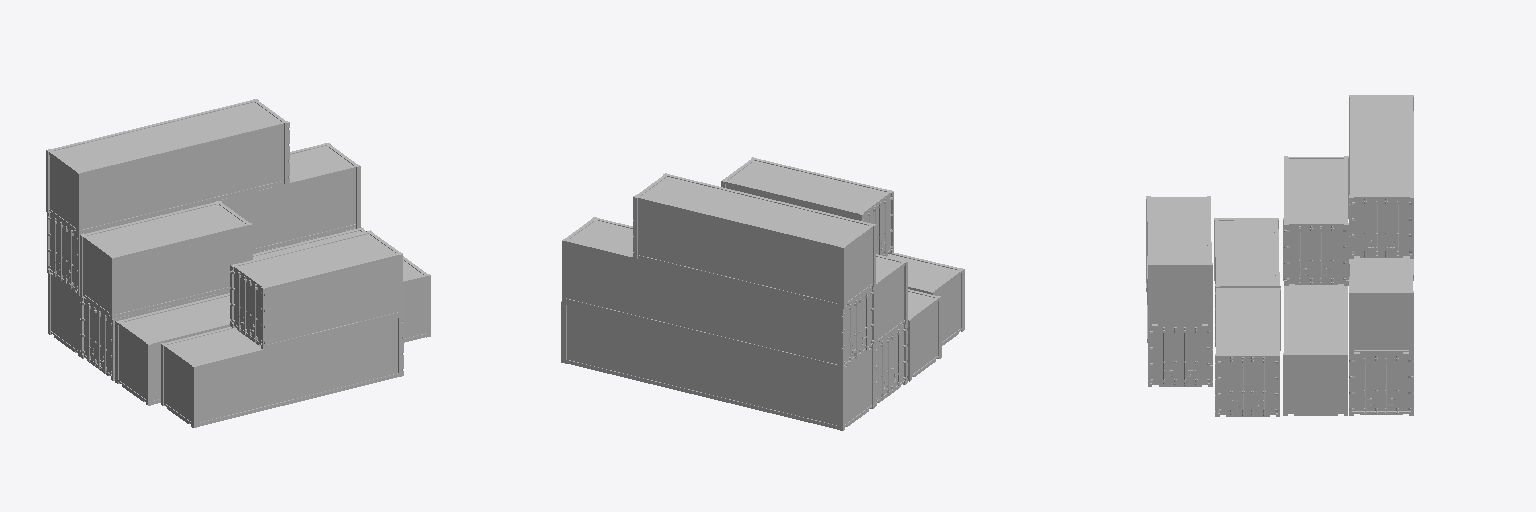
The model's file is Shipping Containers.obj.
3 views of the same model, side by side, from view 1: azimuth 30°, elevation 25°; view 2: azimuth 150°, elevation 25°; view 3: azimuth 270°, elevation 25° (orthographic).
Parts seen in each view (by area): view 1: Shipping_Container_(Large).007_Container_Medium_Blue, Shipping_Container_(Large).006_Container_Medium_Red, Shipping_Container_(Medium).005_Container_Small_Red, Shipping_Container_(Medium).006_Container_Small_Green, Shipping_Container_(Large).009_Container_Large_Red, Shipping_Container_(Medium).004_Container_Small_Blue, Shipping_Container_(Large).005_Container_Large_Blue, Shipping_Container_(Large).008_Container_Large_Green, Shipping_Container_(Medium).003_Container_Small_Red; view 2: Shipping_Container_(Large).007_Container_Medium_Blue, Shipping_Container_(Large).009_Container_Large_Red, Shipping_Container_(Large).008_Container_Large_Green, Shipping_Container_(Medium).005_Container_Small_Red, Shipping_Container_(Large).006_Container_Medium_Red, Shipping_Container_(Medium).004_Container_Small_Blue, Shipping_Container_(Medium).006_Container_Small_Green, Shipping_Container_(Large).005_Container_Large_Blue; view 3: Shipping_Container_(Large).007_Container_Medium_Blue, Shipping_Container_(Large).005_Container_Large_Blue, Shipping_Container_(Medium).005_Container_Small_Red, Shipping_Container_(Medium).003_Container_Small_Red, Shipping_Container_(Medium).006_Container_Small_Green, Shipping_Container_(Large).009_Container_Large_Red, Shipping_Container_(Medium).004_Container_Small_Blue, Shipping_Container_(Large).006_Container_Medium_Red, Shipping_Container_(Large).008_Container_Large_Green.
Part boxes in pixels (left/top/right/bottom): Shipping_Container_(Large).007_Container_Medium_Blue: left=46, top=99, right=289, bottom=234; Shipping_Container_(Large).006_Container_Medium_Red: left=161, top=315, right=403, bottom=427; Shipping_Container_(Medium).005_Container_Small_Red: left=230, top=230, right=402, bottom=349; Shipping_Container_(Medium).006_Container_Small_Green: left=80, top=201, right=252, bottom=319; Shipping_Container_(Large).009_Container_Large_Red: left=47, top=143, right=360, bottom=295; Shipping_Container_(Medium).004_Container_Small_Blue: left=115, top=293, right=230, bottom=405; Shipping_Container_(Large).005_Container_Large_Blue: left=80, top=227, right=365, bottom=380; Shipping_Container_(Large).008_Container_Large_Green: left=48, top=227, right=360, bottom=356; Shipping_Container_(Medium).003_Container_Small_Red: left=403, top=256, right=430, bottom=342; Shipping_Container_(Large).007_Container_Medium_Blue: left=633, top=173, right=875, bottom=308; Shipping_Container_(Large).009_Container_Large_Red: left=562, top=217, right=875, bottom=369; Shipping_Container_(Large).008_Container_Large_Green: left=561, top=301, right=874, bottom=430; Shipping_Container_(Medium).005_Container_Small_Red: left=721, top=157, right=893, bottom=256; Shipping_Container_(Large).006_Container_Medium_Red: left=887, top=253, right=964, bottom=345; Shipping_Container_(Medium).004_Container_Small_Blue: left=907, top=289, right=941, bottom=381; Shipping_Container_(Medium).006_Container_Small_Green: left=875, top=254, right=907, bottom=344; Shipping_Container_(Large).005_Container_Large_Blue: left=875, top=323, right=907, bottom=406; Shipping_Container_(Large).007_Container_Medium_Blue: left=1349, top=95, right=1413, bottom=258; Shipping_Container_(Large).005_Container_Large_Blue: left=1283, top=218, right=1347, bottom=415; Shipping_Container_(Medium).005_Container_Small_Red: left=1146, top=196, right=1212, bottom=325; Shipping_Container_(Medium).003_Container_Small_Red: left=1215, top=288, right=1280, bottom=416; Shipping_Container_(Medium).006_Container_Small_Green: left=1284, top=156, right=1348, bottom=285; Shipping_Container_(Large).009_Container_Large_Red: left=1349, top=158, right=1413, bottom=354; Shipping_Container_(Medium).004_Container_Small_Blue: left=1214, top=218, right=1280, bottom=346; Shipping_Container_(Large).006_Container_Medium_Red: left=1146, top=260, right=1212, bottom=386; Shipping_Container_(Large).008_Container_Large_Green: left=1349, top=259, right=1413, bottom=415.
Size of the model in its own units: 12.38 by 7.59 by 10.08.